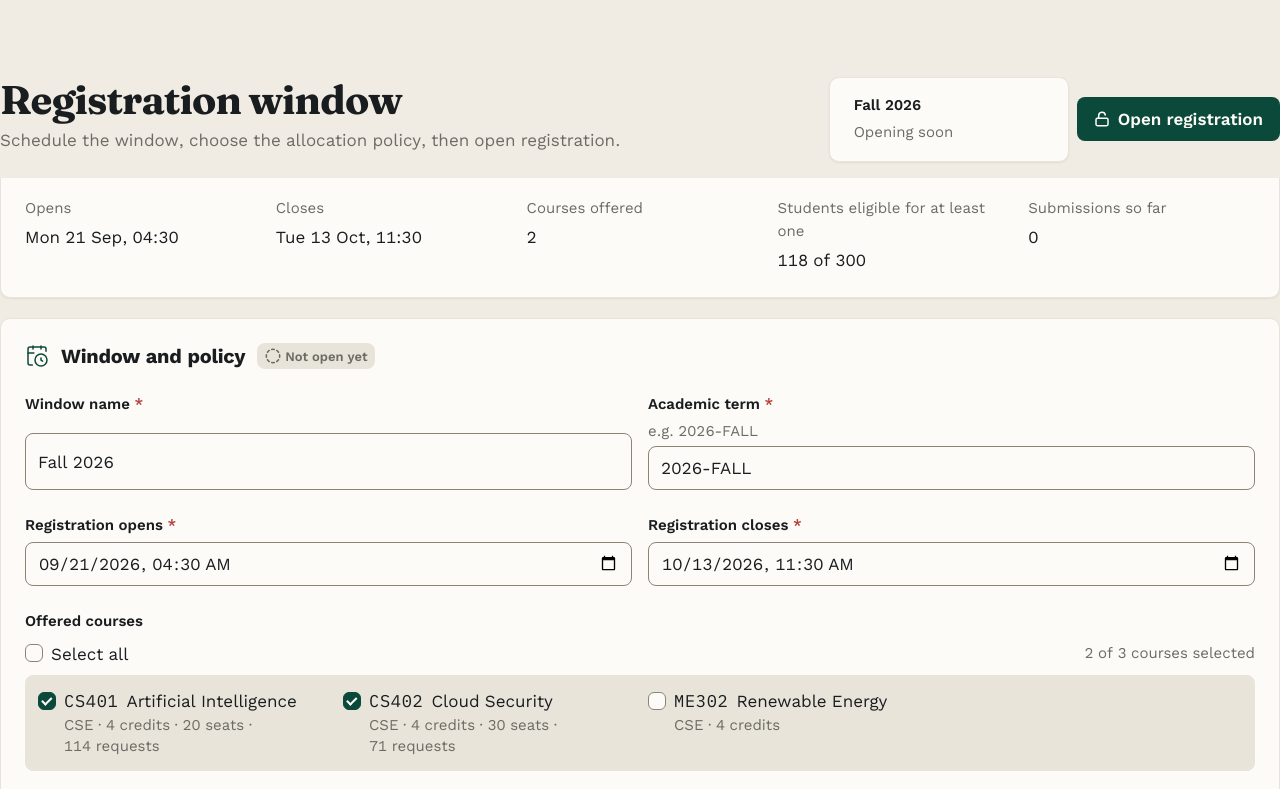
Test case: RegistrationWindowPage › refuses a closing time that is not after the opening one
The image size is (1280, 789).
Replace the text in the field labelled "Registration closes" with "2026-09-20T09:00" at [952, 564], box [648, 542, 1255, 586]
(page scrolled)
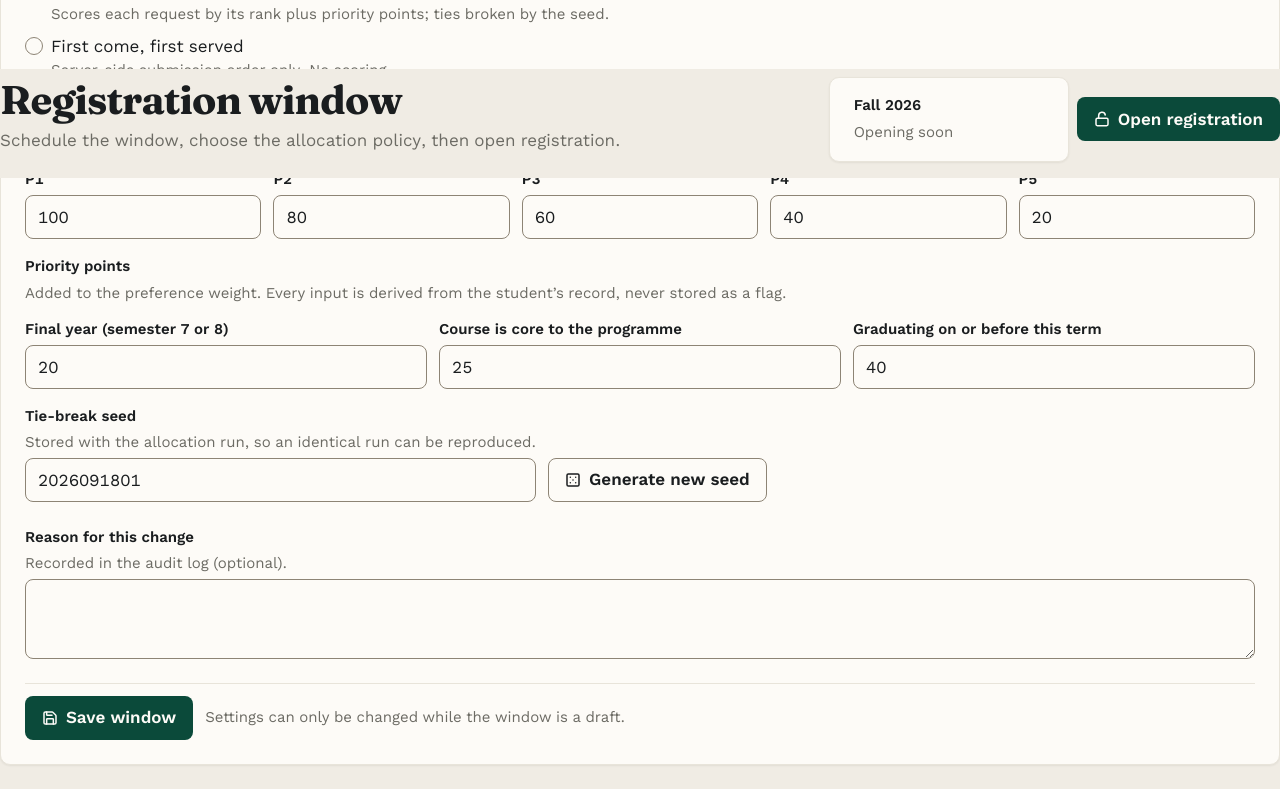
Click the button "Save window" at [109, 718], box [25, 696, 193, 740]
(page scrolled)
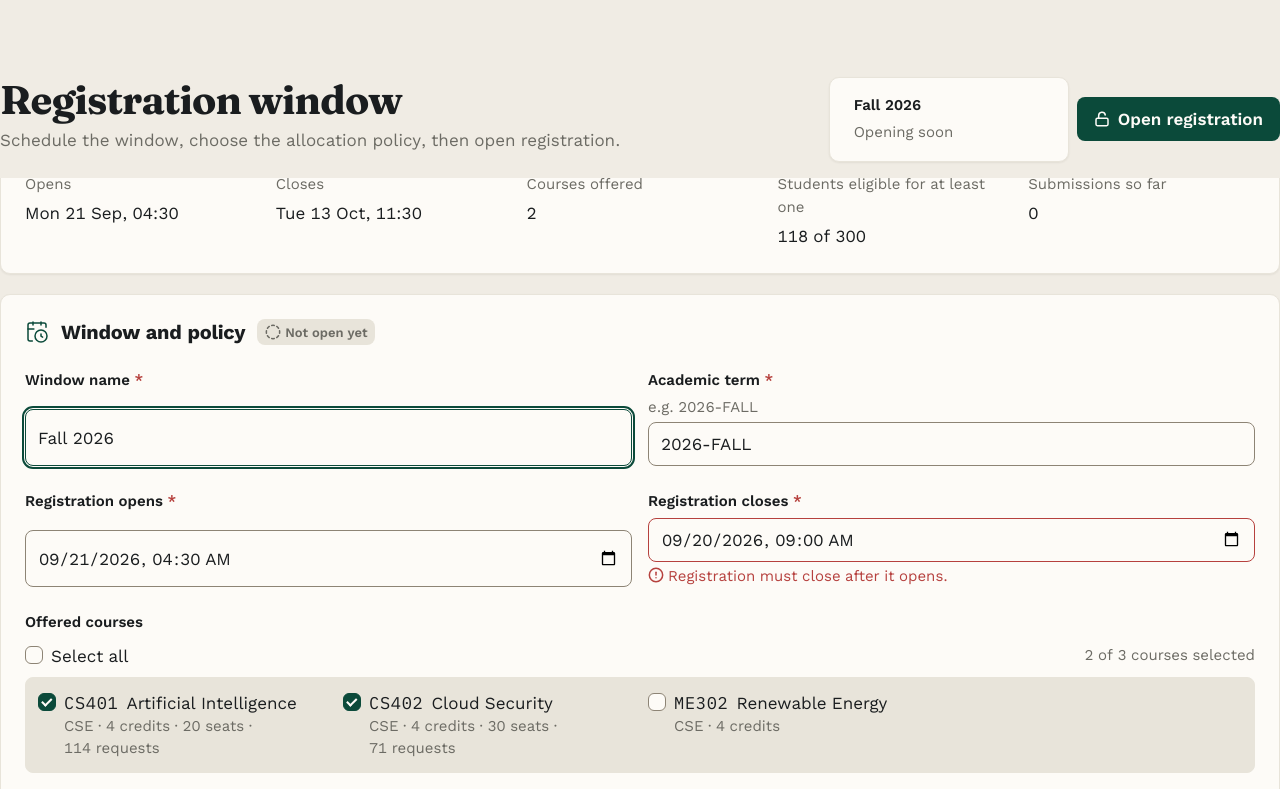
Expected: the text "Registration must close after it opens." is shown, [668, 566, 948, 587]
